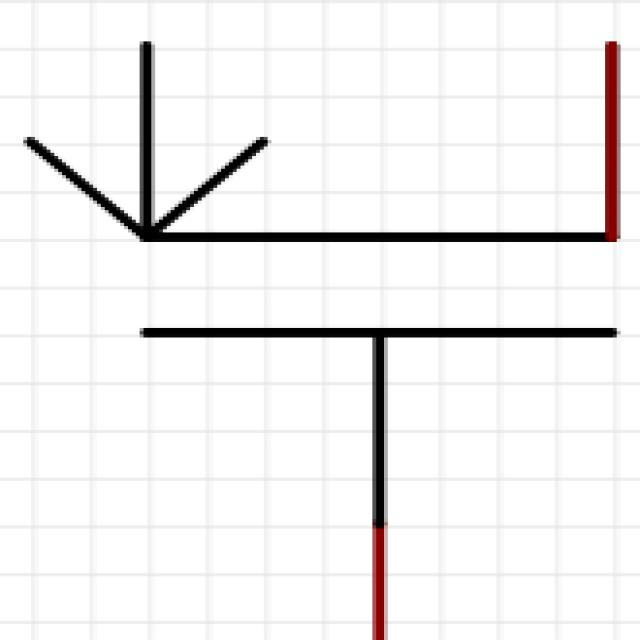pmos: (15, 35, 640, 638)
